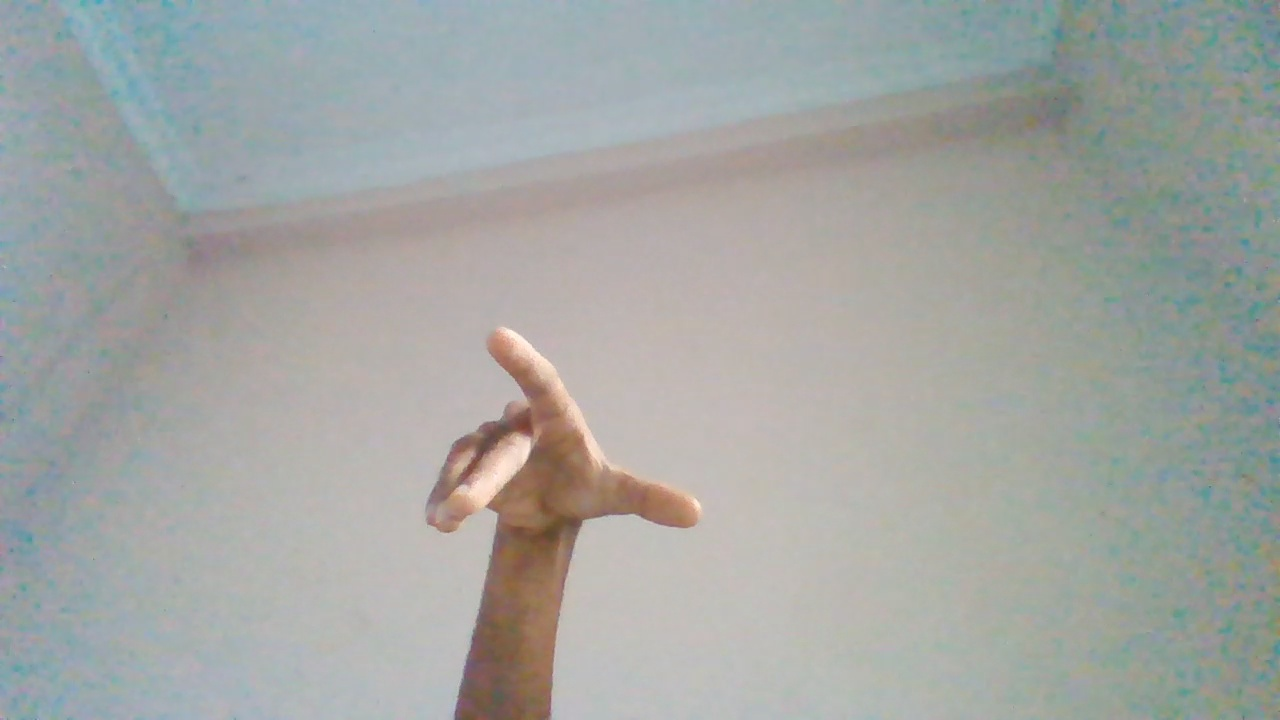ke: (424, 333, 701, 706)
